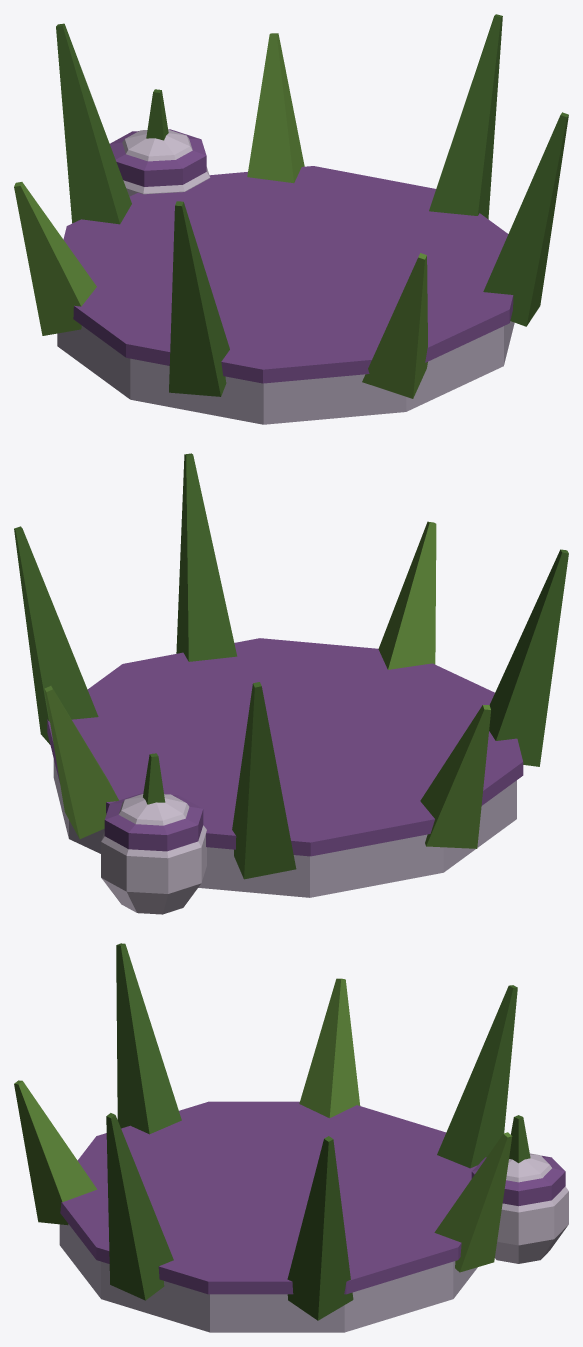
The model's file is char_hat_turnip_crown.glb.
The picture shows the model from 3 angles, top to bottom: view 1: azimuth 30°, elevation 25°; view 2: azimuth 150°, elevation 25°; view 3: azimuth 270°, elevation 25°; orthographic projection. The views are drawn at different scales.
Visible parts, largest first — view 1: Hat; view 2: Hat; view 3: Hat.
Part boxes in pixels (x1,y1,x2,y2): Hat: (14, 14, 568, 424); Hat: (14, 453, 568, 914); Hat: (14, 943, 568, 1332).
Size of the model in its own units: 0.4365 by 0.216 by 0.4715.
